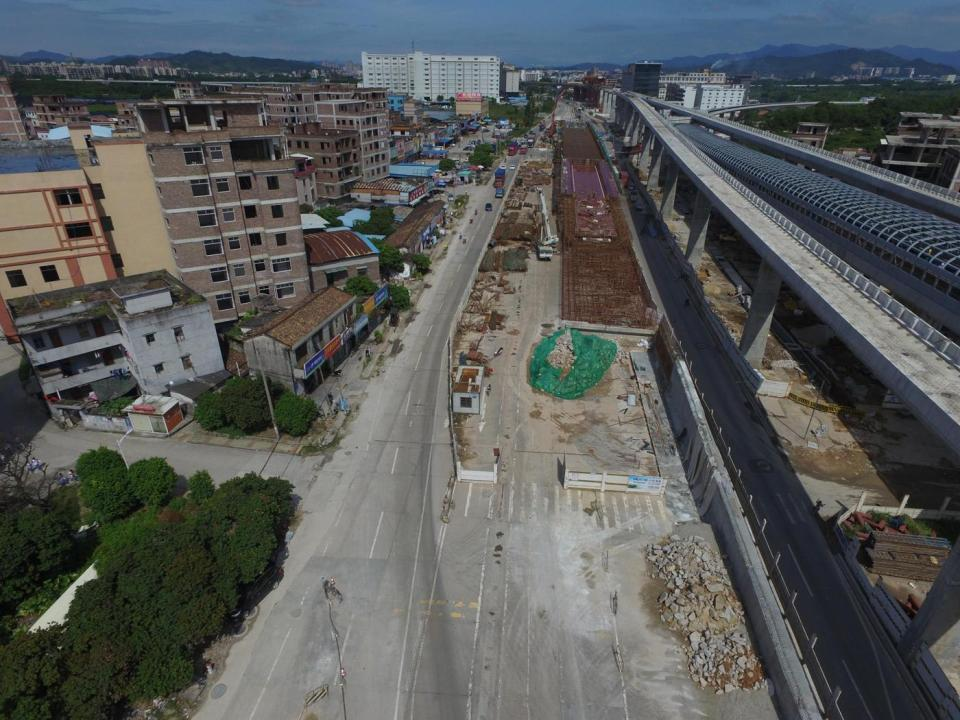car: (465, 158, 474, 163), (486, 203, 492, 210), (448, 195, 454, 201), (415, 162, 424, 166), (628, 185, 635, 190), (509, 165, 515, 170), (447, 143, 455, 146), (501, 165, 506, 168), (528, 131, 532, 134), (558, 105, 561, 108), (548, 116, 550, 118)
truck: (494, 168, 506, 187), (618, 171, 630, 188), (508, 141, 519, 156), (528, 134, 536, 148), (495, 187, 505, 198), (520, 144, 528, 154), (630, 191, 637, 202), (636, 202, 643, 210), (540, 122, 545, 131)
van: (449, 158, 460, 165), (432, 147, 444, 151)
